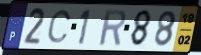1: (77, 8, 92, 46)
2: (22, 7, 46, 46)
8: (128, 9, 153, 49), (153, 10, 177, 48)
C: (45, 9, 72, 45)
R: (98, 8, 128, 47)
